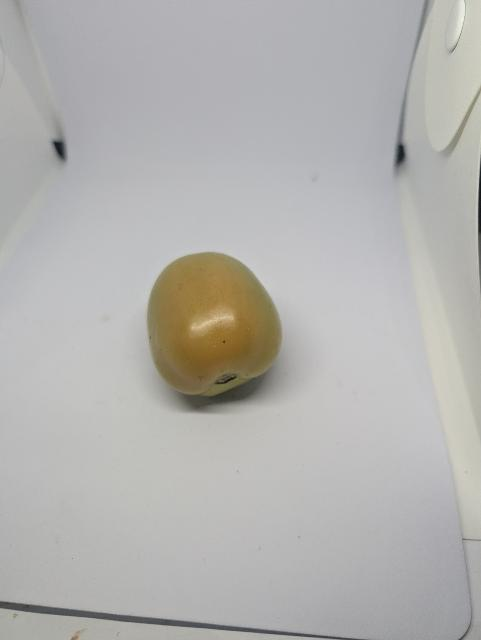breaker: (143, 247, 293, 408)
